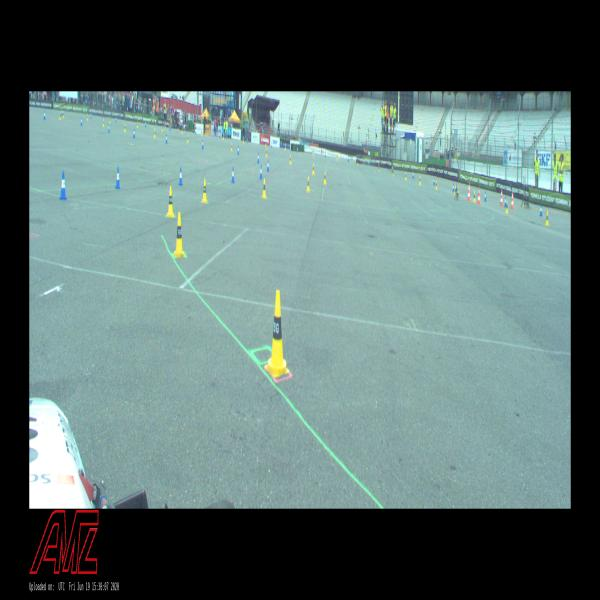blue_cone: (60, 171, 66, 199), (116, 167, 120, 188), (178, 168, 183, 184), (231, 167, 234, 183), (504, 196, 507, 207), (484, 191, 487, 201), (260, 165, 262, 179), (267, 160, 269, 172), (540, 204, 542, 216), (108, 123, 110, 132), (202, 140, 204, 148), (90, 111, 92, 119), (412, 171, 414, 178), (433, 178, 435, 185), (368, 159, 370, 166), (258, 152, 259, 163), (134, 128, 135, 138), (238, 145, 239, 154), (453, 183, 454, 192), (166, 134, 167, 143), (81, 117, 82, 125), (44, 111, 45, 119), (61, 108, 62, 115), (145, 121, 146, 127), (271, 142, 272, 148), (297, 146, 298, 152), (325, 151, 326, 157), (348, 156, 349, 162), (169, 126, 170, 131), (247, 138, 248, 142), (392, 165, 392, 172), (116, 116, 116, 122)
large_orange_cone: (467, 183, 470, 200), (477, 187, 480, 204), (500, 189, 503, 206), (511, 192, 514, 208)
yellow_cone: (265, 291, 289, 376), (174, 212, 185, 257), (167, 186, 174, 216), (202, 179, 207, 202), (262, 179, 266, 198), (306, 176, 310, 192), (323, 171, 326, 183), (312, 164, 315, 174), (546, 211, 548, 225), (506, 201, 508, 213), (473, 192, 475, 202), (454, 186, 456, 196), (419, 176, 421, 185), (124, 124, 126, 132), (154, 130, 156, 138), (59, 112, 61, 120), (266, 148, 268, 156), (392, 169, 394, 175), (109, 118, 111, 124), (336, 154, 338, 160), (436, 181, 437, 189), (290, 156, 291, 164), (312, 150, 314, 154), (188, 135, 189, 142), (378, 165, 379, 172), (87, 114, 88, 121), (231, 144, 232, 150), (103, 120, 104, 126), (243, 137, 244, 143), (357, 160, 358, 166), (162, 125, 163, 131), (63, 112, 64, 118), (182, 128, 183, 133), (285, 144, 286, 149), (223, 134, 224, 139), (406, 172, 406, 180), (138, 121, 138, 128), (266, 140, 266, 147), (202, 131, 202, 136)
